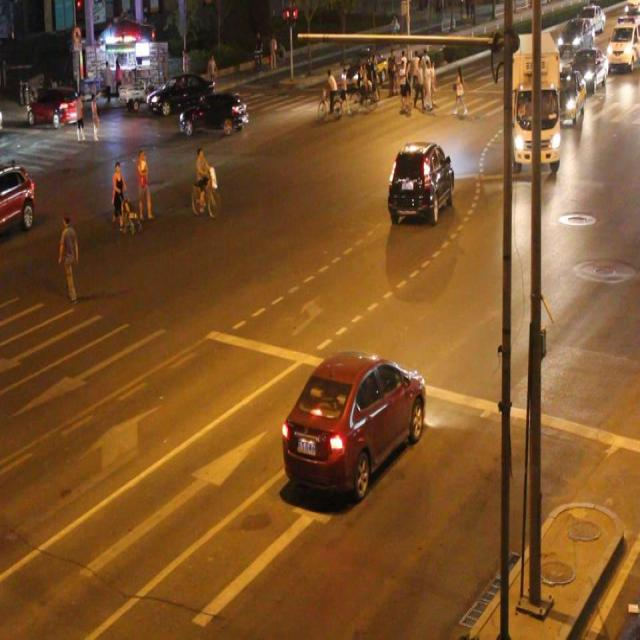bus: (506, 31, 559, 169)
car: (280, 347, 423, 493), (390, 144, 453, 220), (181, 90, 247, 136), (147, 73, 214, 114), (1, 163, 33, 235), (550, 66, 583, 122)
